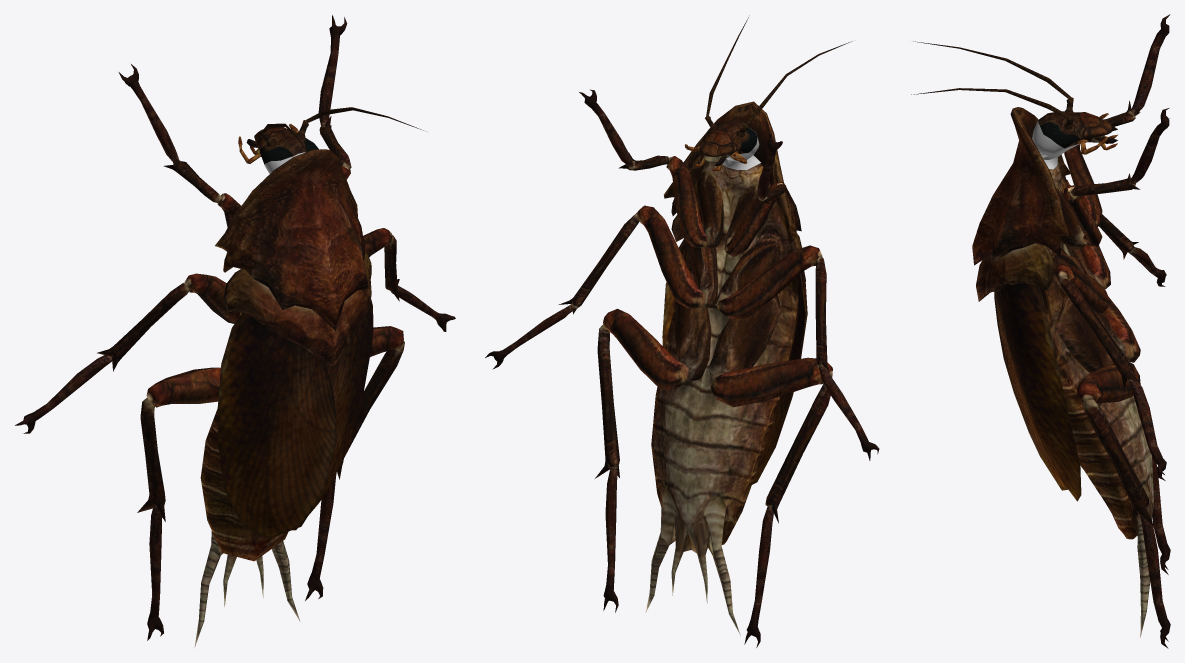
Rendered from RadRoach.obj.
3 renders of one model, left to right at view 1: azimuth 30°, elevation 25°; view 2: azimuth 150°, elevation 25°; view 3: azimuth 270°, elevation 25°, orthographic. The views are drawn at different scales.
Parts seen in each view (by area): view 1: Roach; view 2: Roach; view 3: Roach, headcap.
Part boxes in pixels (<box>): Roach: <box>15,15,455,647</box>; Roach: <box>485,15,879,647</box>; Roach: <box>911,14,1170,648</box>; headcap: <box>1032,120,1078,159</box>.
Bounding box in the file's own units: 58.92 × 74.95 × 32.27.
